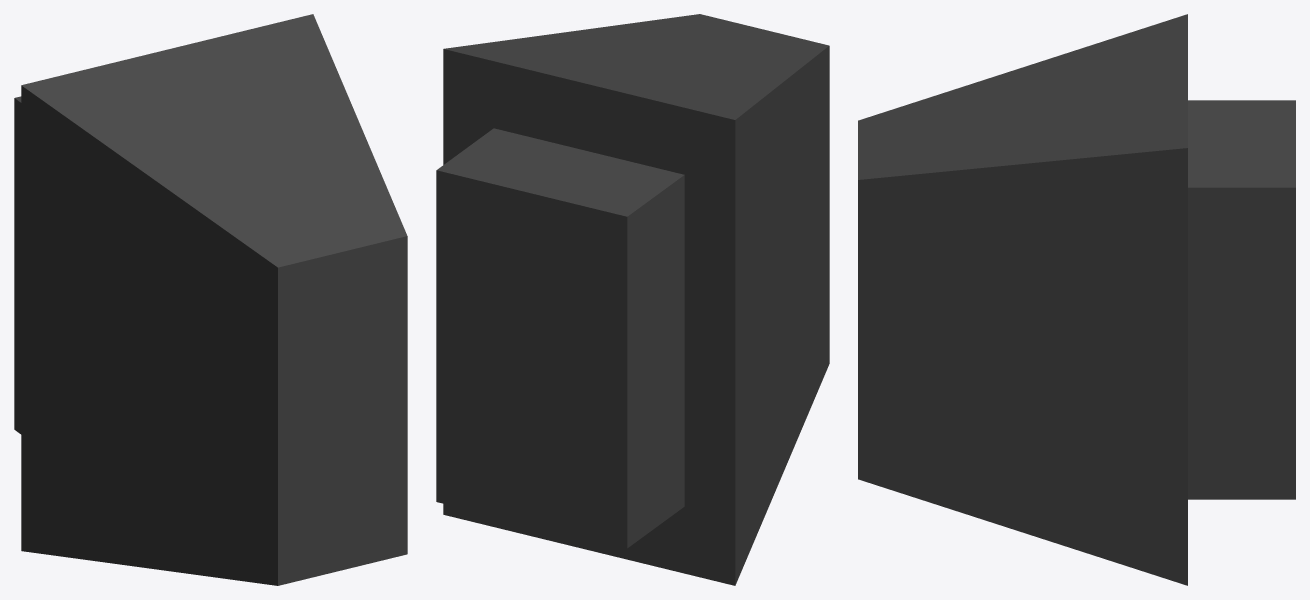
Rendered from SMG3_02_4.fbx.
3 renders of one model, left to right at view 1: azimuth 30°, elevation 25°; view 2: azimuth 150°, elevation 25°; view 3: azimuth 270°, elevation 25°, orthographic. The views are drawn at different scales.
Parts seen in each view (by area): view 1: SMG3_02_4; view 2: SMG3_02_4; view 3: SMG3_02_4.
Boxes of the visible parts, bbox=[...] form: SMG3_02_4: bbox=[14, 14, 407, 585]; SMG3_02_4: bbox=[436, 14, 829, 585]; SMG3_02_4: bbox=[858, 14, 1295, 585].
Size of the model in its own units: 0.0119 by 0.0181 by 0.0164.
